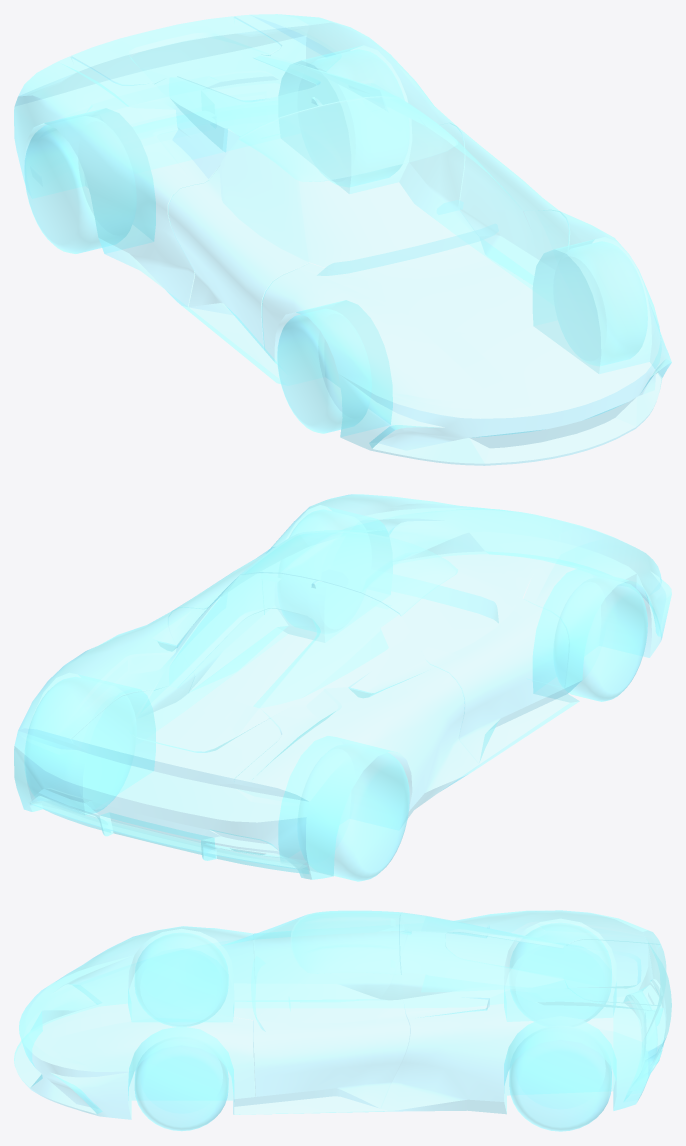
File: ghostCar.glb
3 renders of one model, top to bottom at view 1: azimuth 30°, elevation 25°; view 2: azimuth 150°, elevation 25°; view 3: azimuth 270°, elevation 25°, orthographic. The views are drawn at different scales.
Parts seen in each view (by area): view 1: Car 01_Body; view 2: Car 01_Body; view 3: Car 01_Body.
Boxes of the visible parts, x1=… form: Car 01_Body: x1=14, y1=14, x2=671, y2=465; Car 01_Body: x1=14, y1=494, x2=671, y2=881; Car 01_Body: x1=14, y1=910, x2=671, y2=1131.
Bounding box in the file's own units: 2.26 × 1.22 × 5.06.
